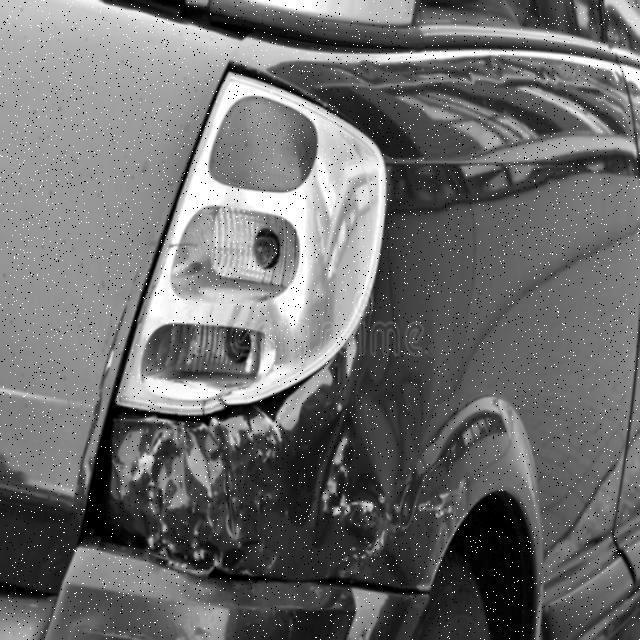Taillight-Damage: (104, 35, 397, 429)
quaterpanel-dent: (103, 407, 624, 581)
